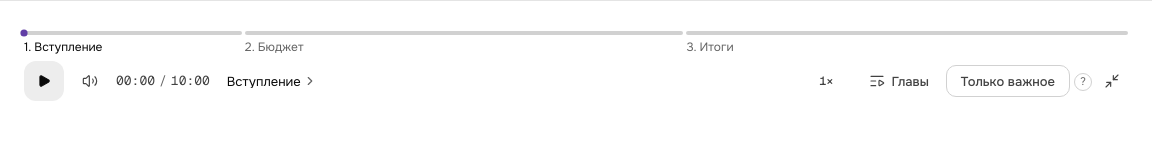
it: полоса делится на главы с зазорами; подписи «N. название» помещаются по ширине
Hover over the text "2. Бюджет".
mouse_move(274, 47)  # box [245,39,304,55]
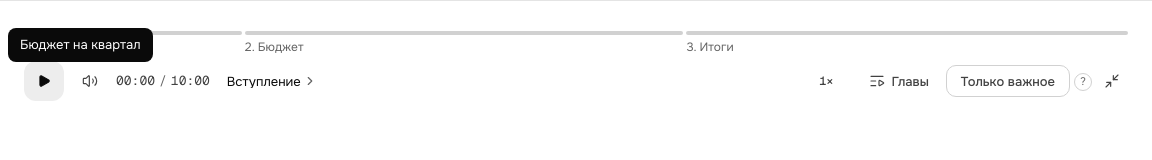
Expected: the text "Бюджет на квартал" is shown, [8,28,153,62]
